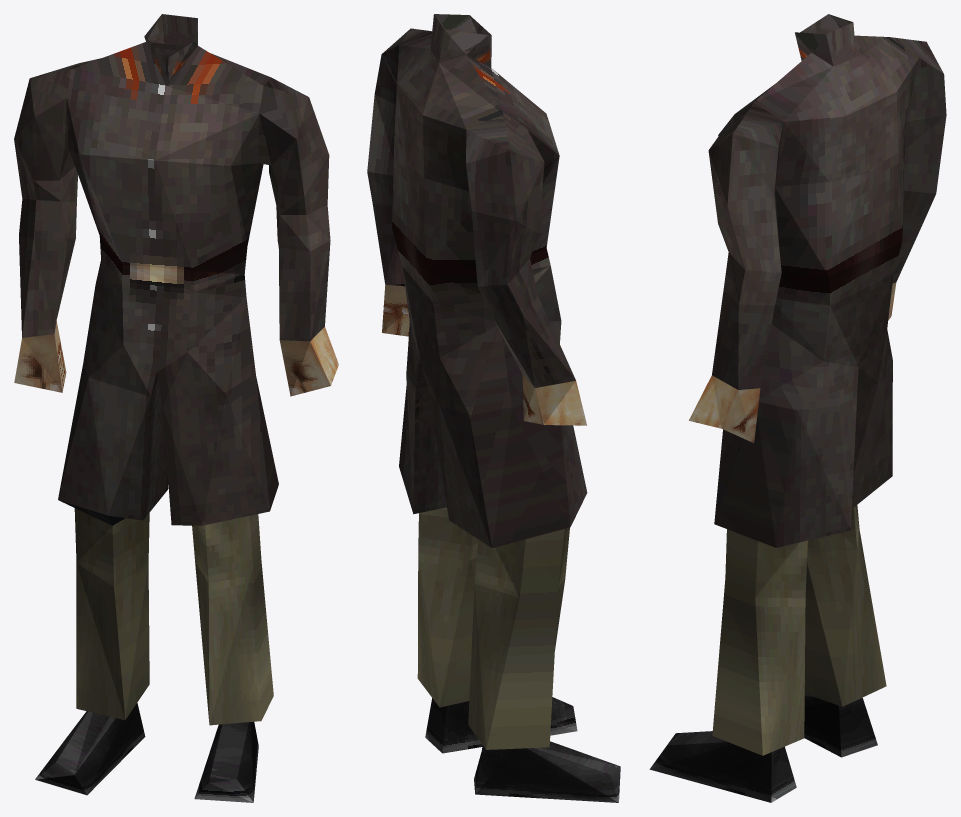
The model's file is guard.glb.
3 renders of one model, left to right at view 1: azimuth 30°, elevation 25°; view 2: azimuth 150°, elevation 25°; view 3: azimuth 270°, elevation 25°, orthographic. The views are drawn at different scales.
Visible parts, largest first — view 1: Object; view 2: Object; view 3: Object.
Part boxes in pixels (left/top/right/bottom): Object: left=14, top=14, right=338, bottom=802; Object: left=367, top=14, right=620, bottom=802; Object: left=649, top=14, right=946, bottom=802.
Bounding box in the file's own units: 0.681 × 1.8 × 0.6416.
77 materials, 77 textured.
